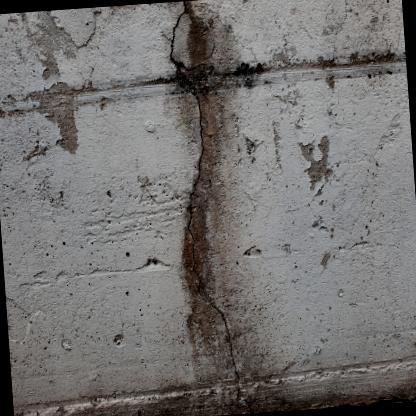crack: (167, 5, 242, 402)
